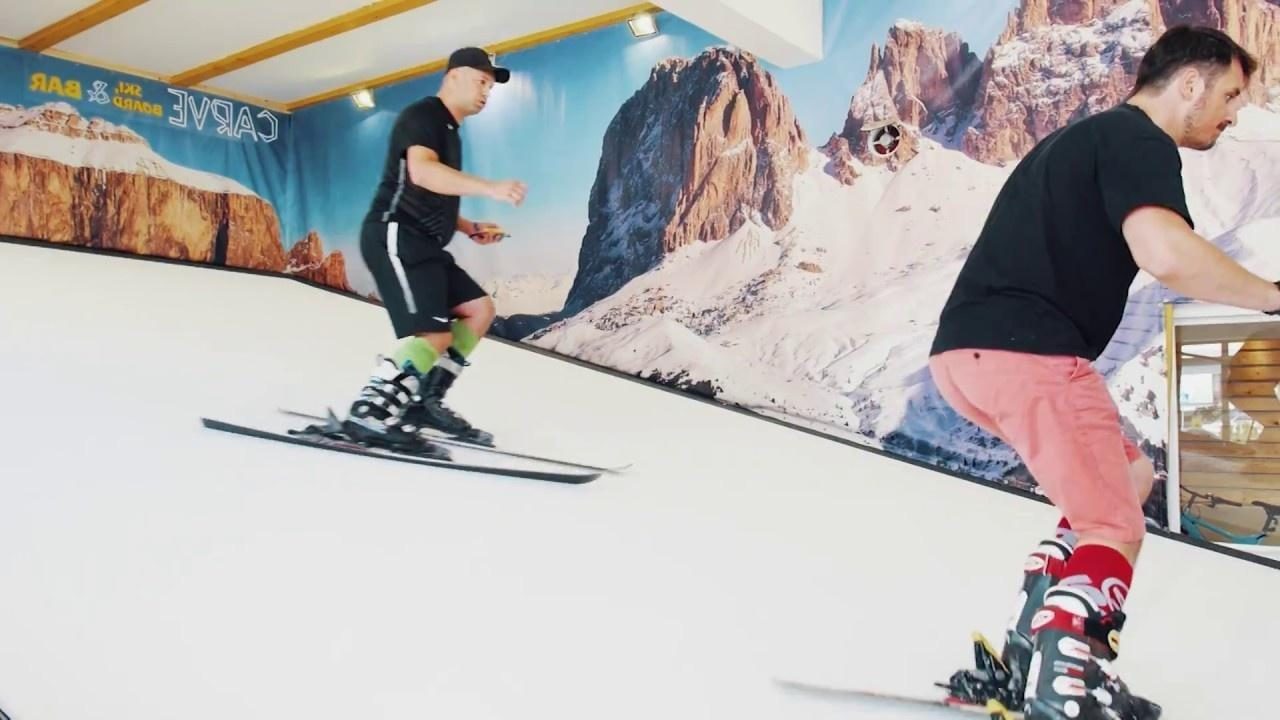Skis: (187, 338, 629, 512)
